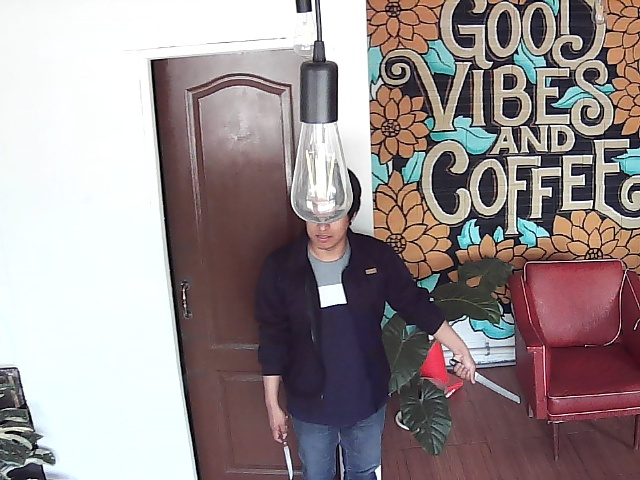cuchillo: (449, 352, 526, 408)
